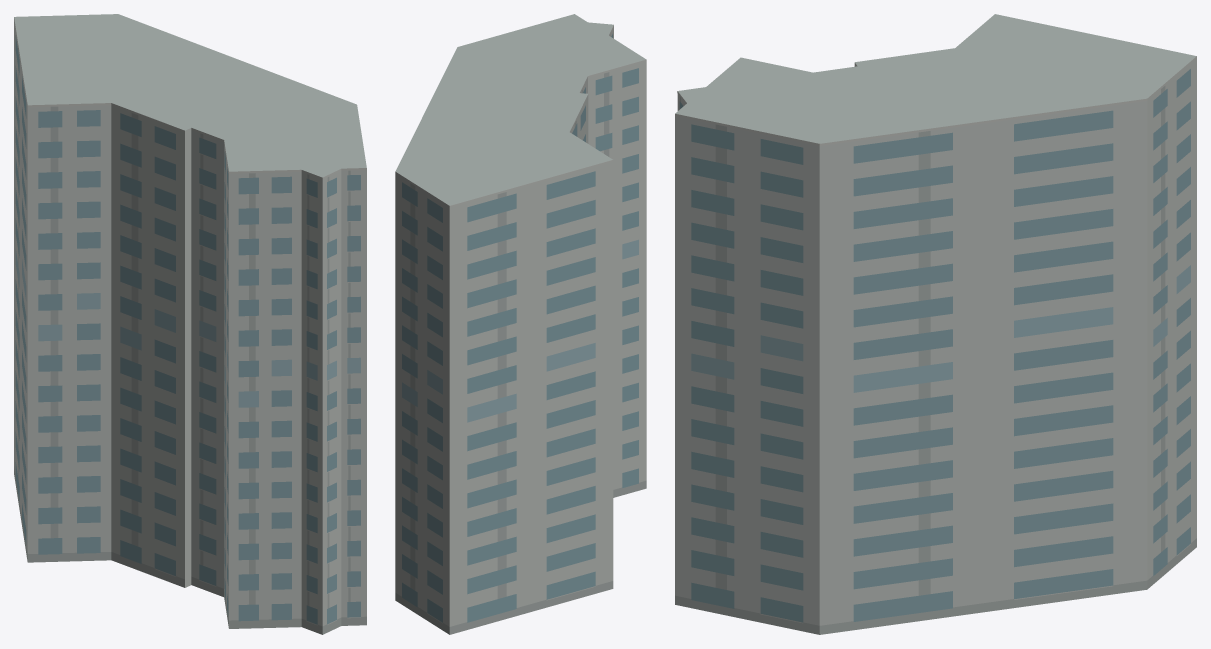
Rendered from residential-57586fae-c836-4a09-969d-a0c25166e28a.glb.
3 renders of one model, left to right at view 1: azimuth 30°, elevation 25°; view 2: azimuth 150°, elevation 25°; view 3: azimuth 270°, elevation 25°, orthographic. The views are drawn at different scales.
Visible parts, largest first — view 1: residential-57586fae-c836-4a09-969d-a0c25166e28a.tmp; view 2: residential-57586fae-c836-4a09-969d-a0c25166e28a.tmp; view 3: residential-57586fae-c836-4a09-969d-a0c25166e28a.tmp.
Boxes of the visible parts, x1,y1,x2,y2 form: residential-57586fae-c836-4a09-969d-a0c25166e28a.tmp: (14, 14, 366, 634); residential-57586fae-c836-4a09-969d-a0c25166e28a.tmp: (395, 14, 646, 634); residential-57586fae-c836-4a09-969d-a0c25166e28a.tmp: (675, 14, 1196, 634).
Bounding box in the file's own units: 29.49 × 52 × 50.08.
